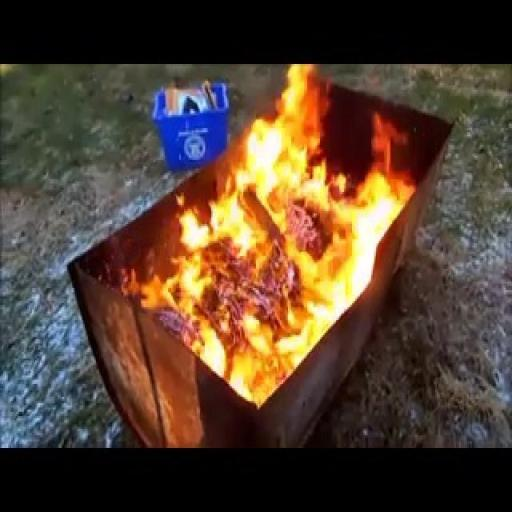smoke: (157, 67, 422, 413)
